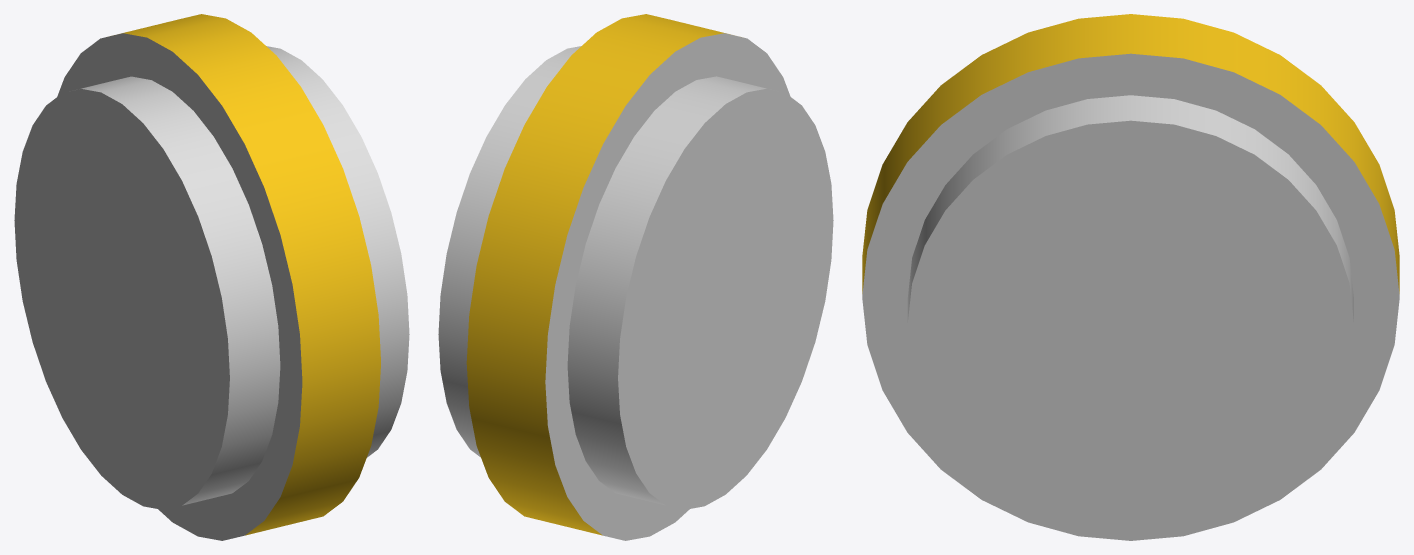
Rendered from Karet Penarik.fbx.
3 views of the same model, side by side, from view 1: azimuth 30°, elevation 25°; view 2: azimuth 150°, elevation 25°; view 3: azimuth 270°, elevation 25° (orthographic). The views are drawn at different scales.
Parts seen in each view (by area): view 1: Cylinder.102; view 2: Cylinder.102; view 3: Cylinder.102.
Boxes of the visible parts, box(x1,y1,x2,y2) form: Cylinder.102: box(14, 14, 409, 540); Cylinder.102: box(438, 14, 833, 540); Cylinder.102: box(862, 14, 1399, 540).
Bounding box in the file's own units: 0.2868 × 0.719 × 0.719.
